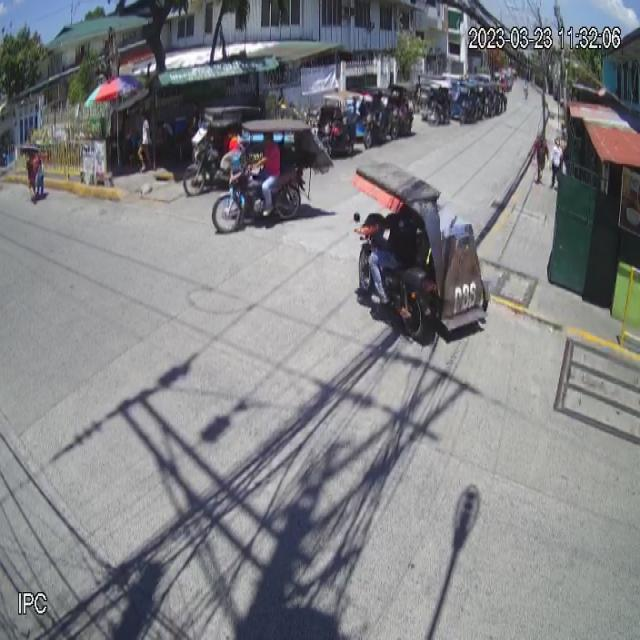Tricycle: (353, 154, 492, 346), (211, 115, 311, 238)
